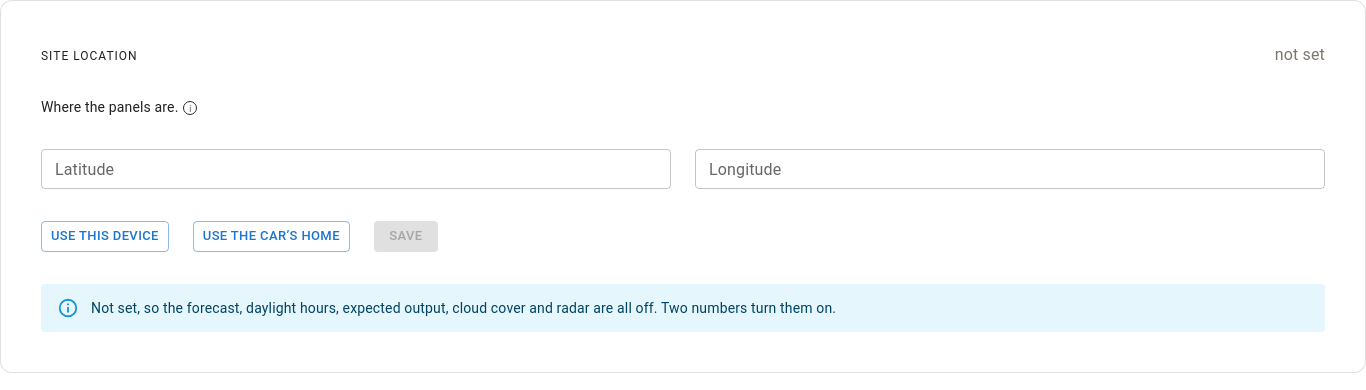
Scenario: SiteLocationCard › offers the coordinates the car already has, which is every upgrading install
This screenshot has width=1366, height=390.
Click the button "Use the car’s home". click: {"x": 271, "y": 236}
box: [193,221,350,252]
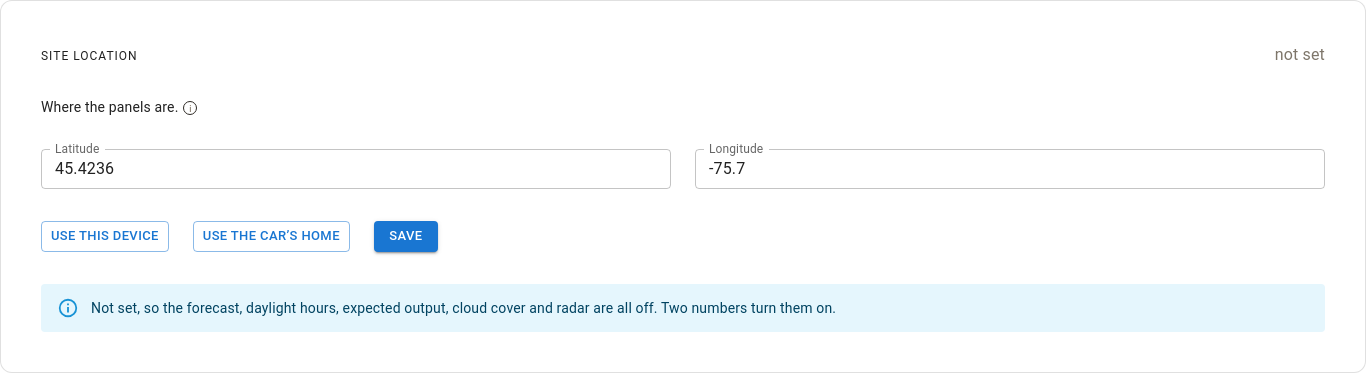
Check: the field labelled "Latitude" holds "45.4236", box [41,149,671,189]
Check: the field labelled "Longitude" holds "-75.7", box [695,149,1325,189]
